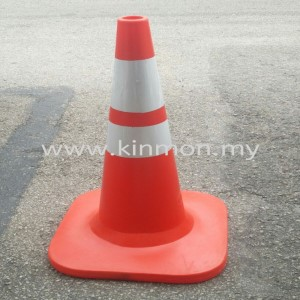traffic cone: (49, 14, 227, 283)
